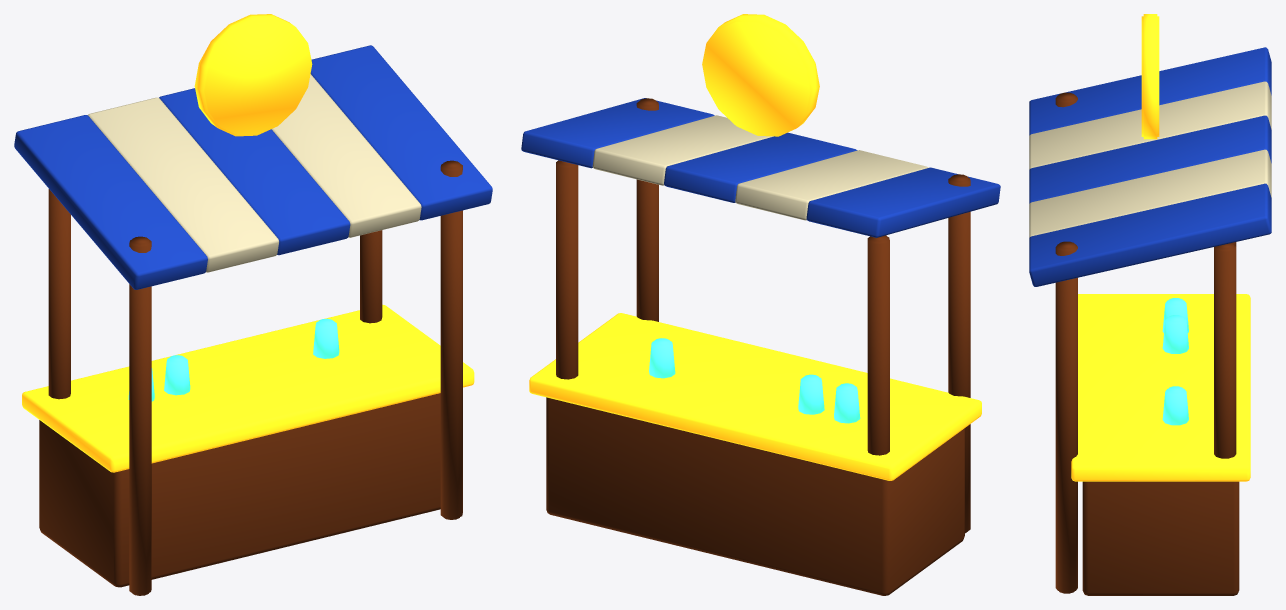
The model's file is prop_shop_kiosk.glb.
3 renders of one model, left to right at view 1: azimuth 30°, elevation 25°; view 2: azimuth 150°, elevation 25°; view 3: azimuth 270°, elevation 25°, orthographic. The views are drawn at different scales.
Parts seen in each view (by area): view 1: CounterBase, CounterTop, CanopyStripe_0, CanopyStripe_1, CanopyStripe_4, ShopCoinSign, CanopyStripe_2, CanopyStripe_3, Post_-1.18_-0.38, Post_1.18_-0.38, Post_-1.18_0.68, Post_1.18_0.68 (+2 smaller); view 2: CounterBase, CounterTop, ShopCoinSign, CanopyStripe_0, CanopyStripe_1, CanopyStripe_2, CanopyStripe_4, CanopyStripe_3, Post_-1.18_-0.38, Post_-1.18_0.68, Post_1.18_0.68, Post_1.18_-0.38 (+3 smaller); view 3: CounterTop, CounterBase, CanopyStripe_4, CanopyStripe_2, CanopyStripe_3, CanopyStripe_1, CanopyStripe_0, Post_1.18_-0.38, Post_1.18_0.68, ShopCoinSign, Bottle_2, Bottle_1 (+1 smaller).
Part boxes in pixels (bbox=[...]): CounterBase: bbox=[39, 393, 440, 587]; CounterTop: bbox=[22, 304, 474, 472]; CanopyStripe_0: bbox=[14, 115, 207, 289]; CanopyStripe_1: bbox=[88, 97, 278, 272]; CanopyStripe_4: bbox=[310, 45, 492, 220]; ShopCoinSign: bbox=[194, 14, 312, 136]; CanopyStripe_2: bbox=[159, 88, 350, 255]; CanopyStripe_3: bbox=[271, 74, 421, 237]; Post_-1.18_-0.38: bbox=[129, 236, 151, 595]; Post_1.18_-0.38: bbox=[440, 160, 462, 519]; Post_-1.18_0.68: bbox=[48, 189, 70, 399]; Post_1.18_0.68: bbox=[360, 230, 382, 323]; CounterBase: bbox=[546, 397, 964, 595]; CounterTop: bbox=[529, 313, 981, 480]; ShopCoinSign: bbox=[702, 14, 819, 136]; CanopyStripe_0: bbox=[806, 167, 1000, 237]; CanopyStripe_1: bbox=[735, 150, 928, 220]; CanopyStripe_2: bbox=[664, 132, 857, 202]; CanopyStripe_4: bbox=[521, 98, 714, 168]; CanopyStripe_3: bbox=[592, 115, 773, 185]; Post_-1.18_-0.38: bbox=[948, 174, 970, 533]; Post_-1.18_0.68: bbox=[867, 235, 889, 455]; Post_1.18_0.68: bbox=[556, 160, 578, 379]; Post_1.18_-0.38: bbox=[636, 98, 658, 321]; CounterTop: bbox=[1071, 294, 1250, 481]; CounterBase: bbox=[1082, 481, 1239, 595]; CanopyStripe_4: bbox=[1029, 183, 1271, 286]; CanopyStripe_2: bbox=[1029, 115, 1271, 203]; CanopyStripe_3: bbox=[1029, 149, 1271, 237]; CanopyStripe_1: bbox=[1029, 81, 1271, 169]; CanopyStripe_0: bbox=[1029, 47, 1271, 135]; Post_1.18_-0.38: bbox=[1055, 241, 1077, 593]; Post_1.18_0.68: bbox=[1214, 243, 1236, 458]; ShopCoinSign: bbox=[1141, 14, 1159, 139]; Bottle_2: bbox=[1162, 386, 1188, 425]; Bottle_1: bbox=[1162, 315, 1188, 353].
Size of the model in its own units: 2.76 by 3.67 by 1.63.
